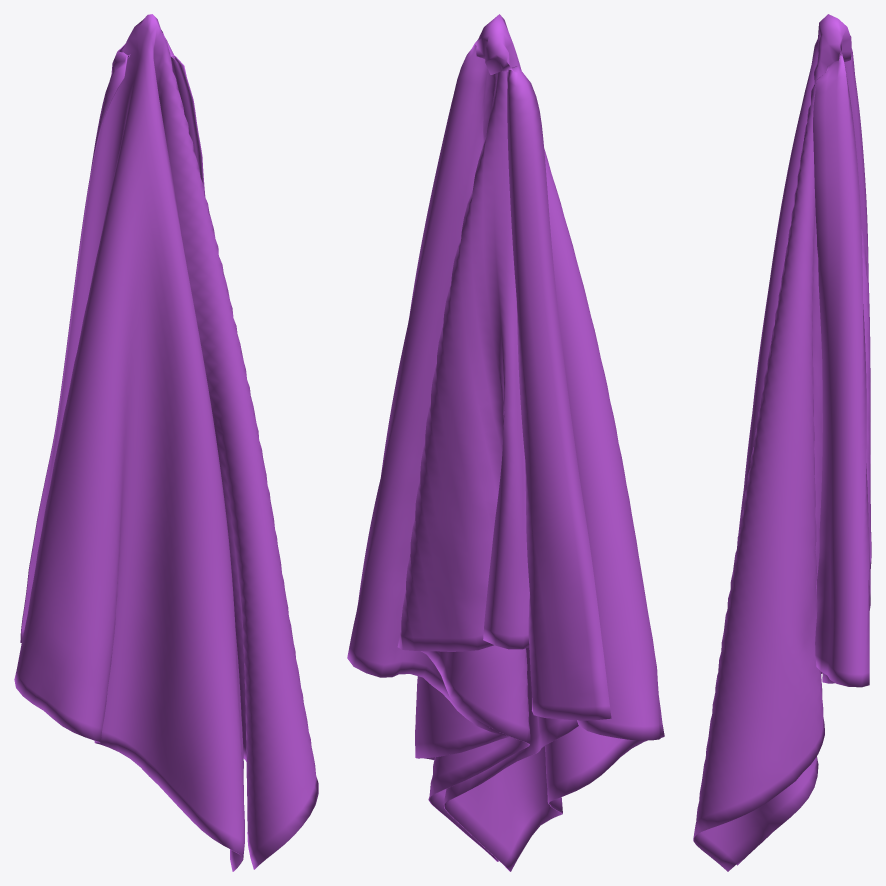
Rendered from havlu_modafabrikblend5_onlymodel.fbx.
3 renders of one model, left to right at view 1: azimuth 30°, elevation 25°; view 2: azimuth 150°, elevation 25°; view 3: azimuth 270°, elevation 25°, orthographic. The views are drawn at different scales.
Parts seen in each view (by area): view 1: havlu.001; view 2: havlu.001; view 3: havlu.001.
Part boxes in pixels (left/top/right/bottom): havlu.001: left=14, top=14, right=318, bottom=871; havlu.001: left=347, top=14, right=664, bottom=871; havlu.001: left=693, top=14, right=871, bottom=871.
Size of the model in its own units: 90.76 by 273 by 52.83.
